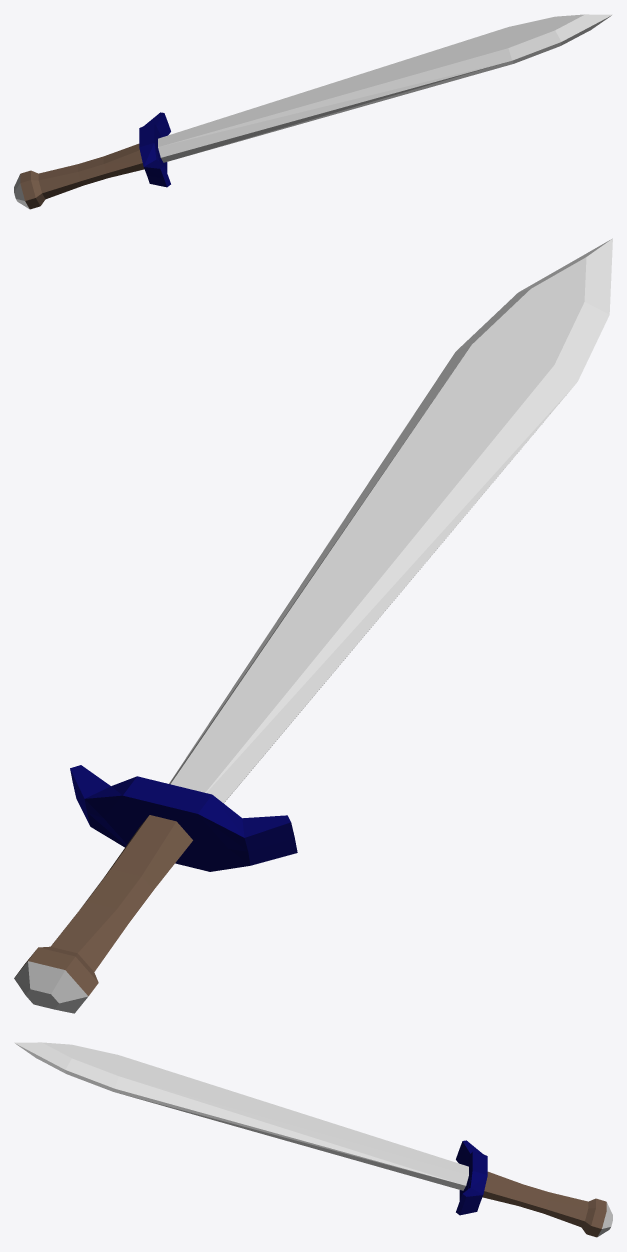
Rendered from Sword.fbx.
3 renders of one model, top to bottom at view 1: azimuth 90°, elevation 25°; view 2: azimuth 150°, elevation 25°; view 3: azimuth 270°, elevation 25°, orthographic. The views are drawn at different scales.
Parts seen in each view (by area): view 1: pPlane1; view 2: pPlane1; view 3: pPlane1.
Boxes of the visible parts, x1,y1,x2,y2 form: pPlane1: (14, 14, 612, 209); pPlane1: (14, 238, 612, 1013); pPlane1: (14, 1042, 612, 1237).
Size of the model in its own units: 1.57 by 2.46 by 7.03.
